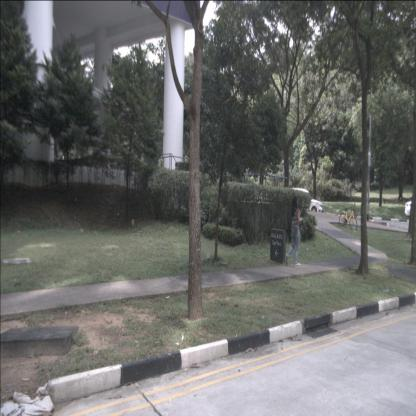human-pedestrian-adult: (285, 195, 305, 267)
vehicle-bicycle: (339, 202, 360, 232)
vehicle-car: (279, 188, 324, 216)
